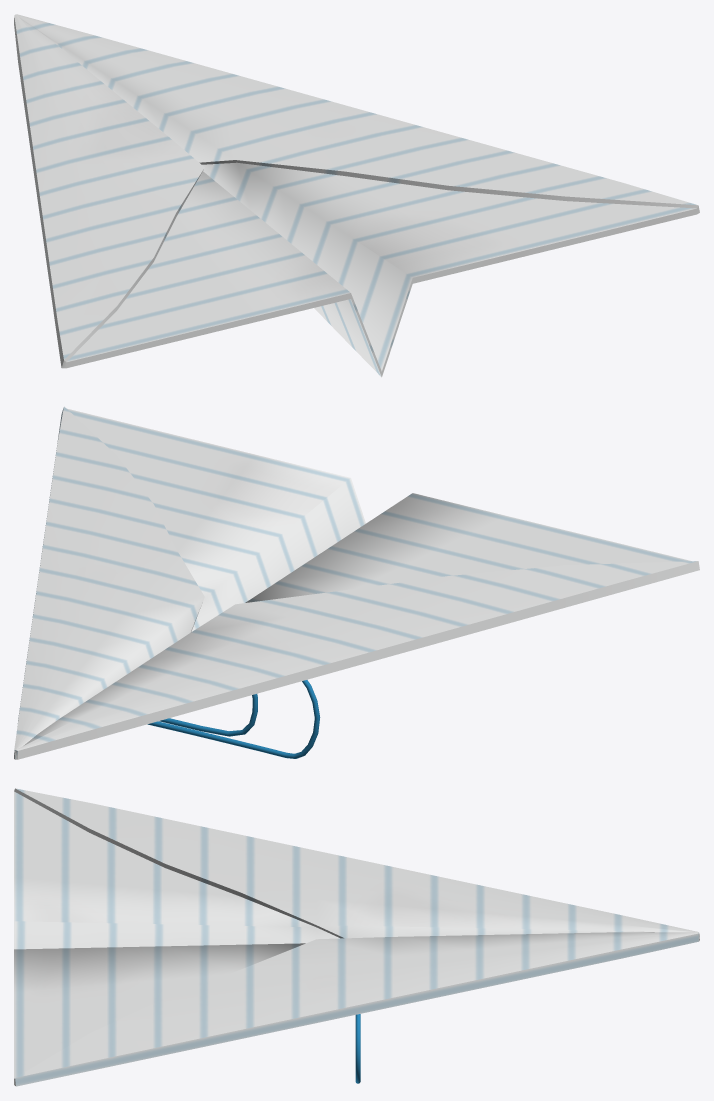
Rendered from KR_Model_PaperGlider_FinalVer_Vang.fbx.
3 renders of one model, top to bottom at view 1: azimuth 30°, elevation 25°; view 2: azimuth 150°, elevation 25°; view 3: azimuth 270°, elevation 25°, orthographic. The views are drawn at different scales.
Visible parts, largest first — view 1: plane3; view 2: plane3, pCylinder8; view 3: plane3.
Part boxes in pixels (x1,y1,x2,y2): plane3: (14, 14, 699, 377); plane3: (14, 406, 699, 759); pCylinder8: (147, 680, 320, 758); plane3: (14, 788, 699, 1086).
Bounding box in the file's own units: 7.55 × 1.37 × 7.51.
Materials: 2 (2 with a texture image).
